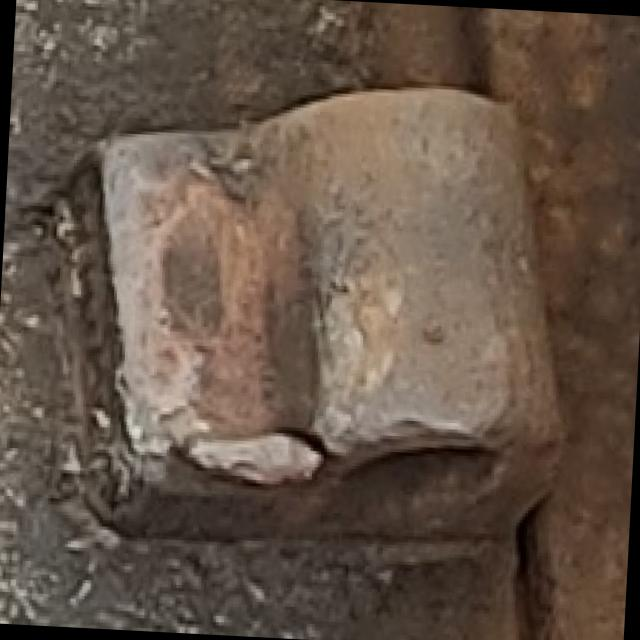track_bolt_missing: (242, 70, 588, 520)
